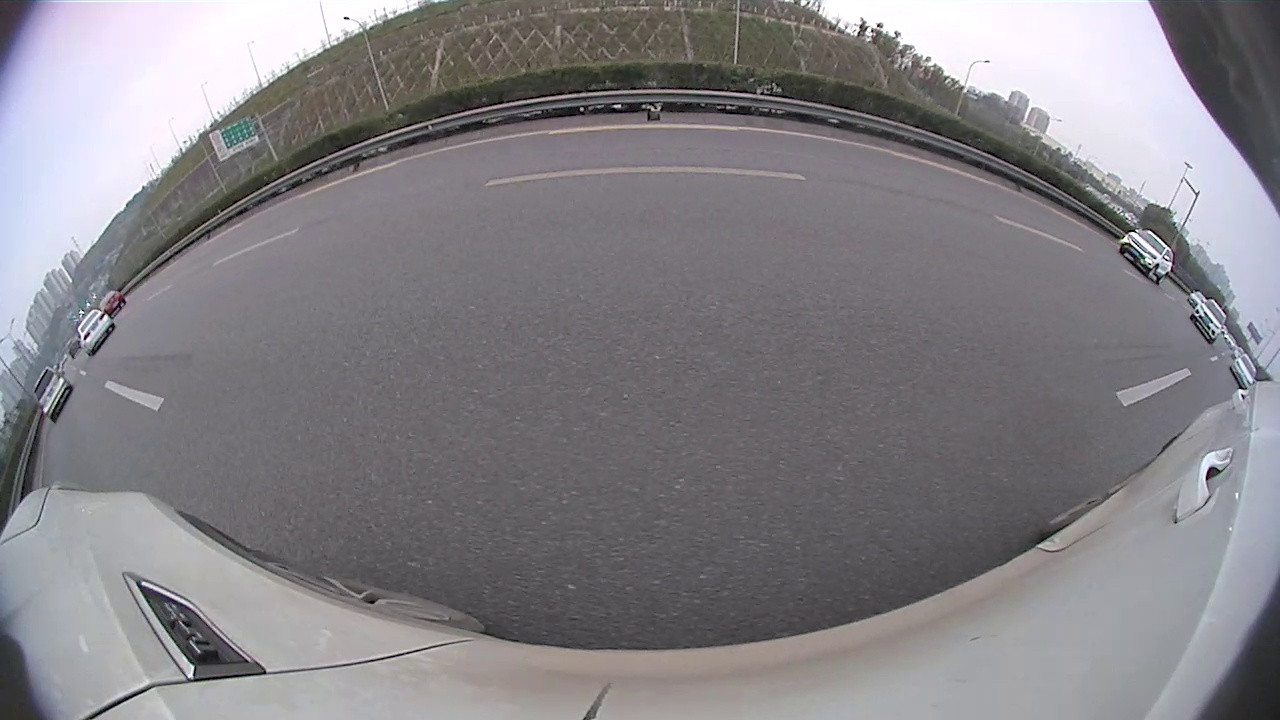bus: (774, 135, 811, 168)
car: (2, 174, 397, 523), (579, 111, 784, 254), (818, 150, 1067, 237), (441, 153, 557, 223), (552, 155, 585, 191), (781, 158, 809, 194)
front: (337, 224, 389, 299), (876, 219, 921, 288), (820, 190, 840, 228)
rear: (34, 399, 136, 518), (978, 276, 1060, 364), (521, 185, 533, 212)
rider: (873, 85, 1160, 368)
